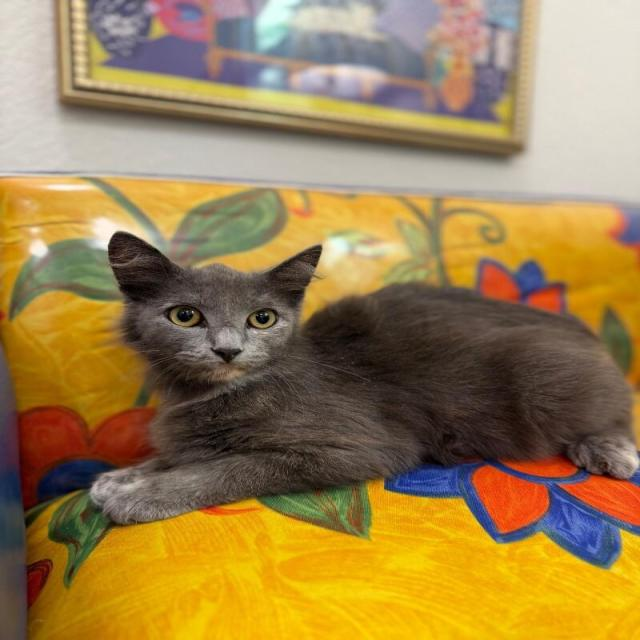russian_blue_cat: (91, 224, 336, 404)
